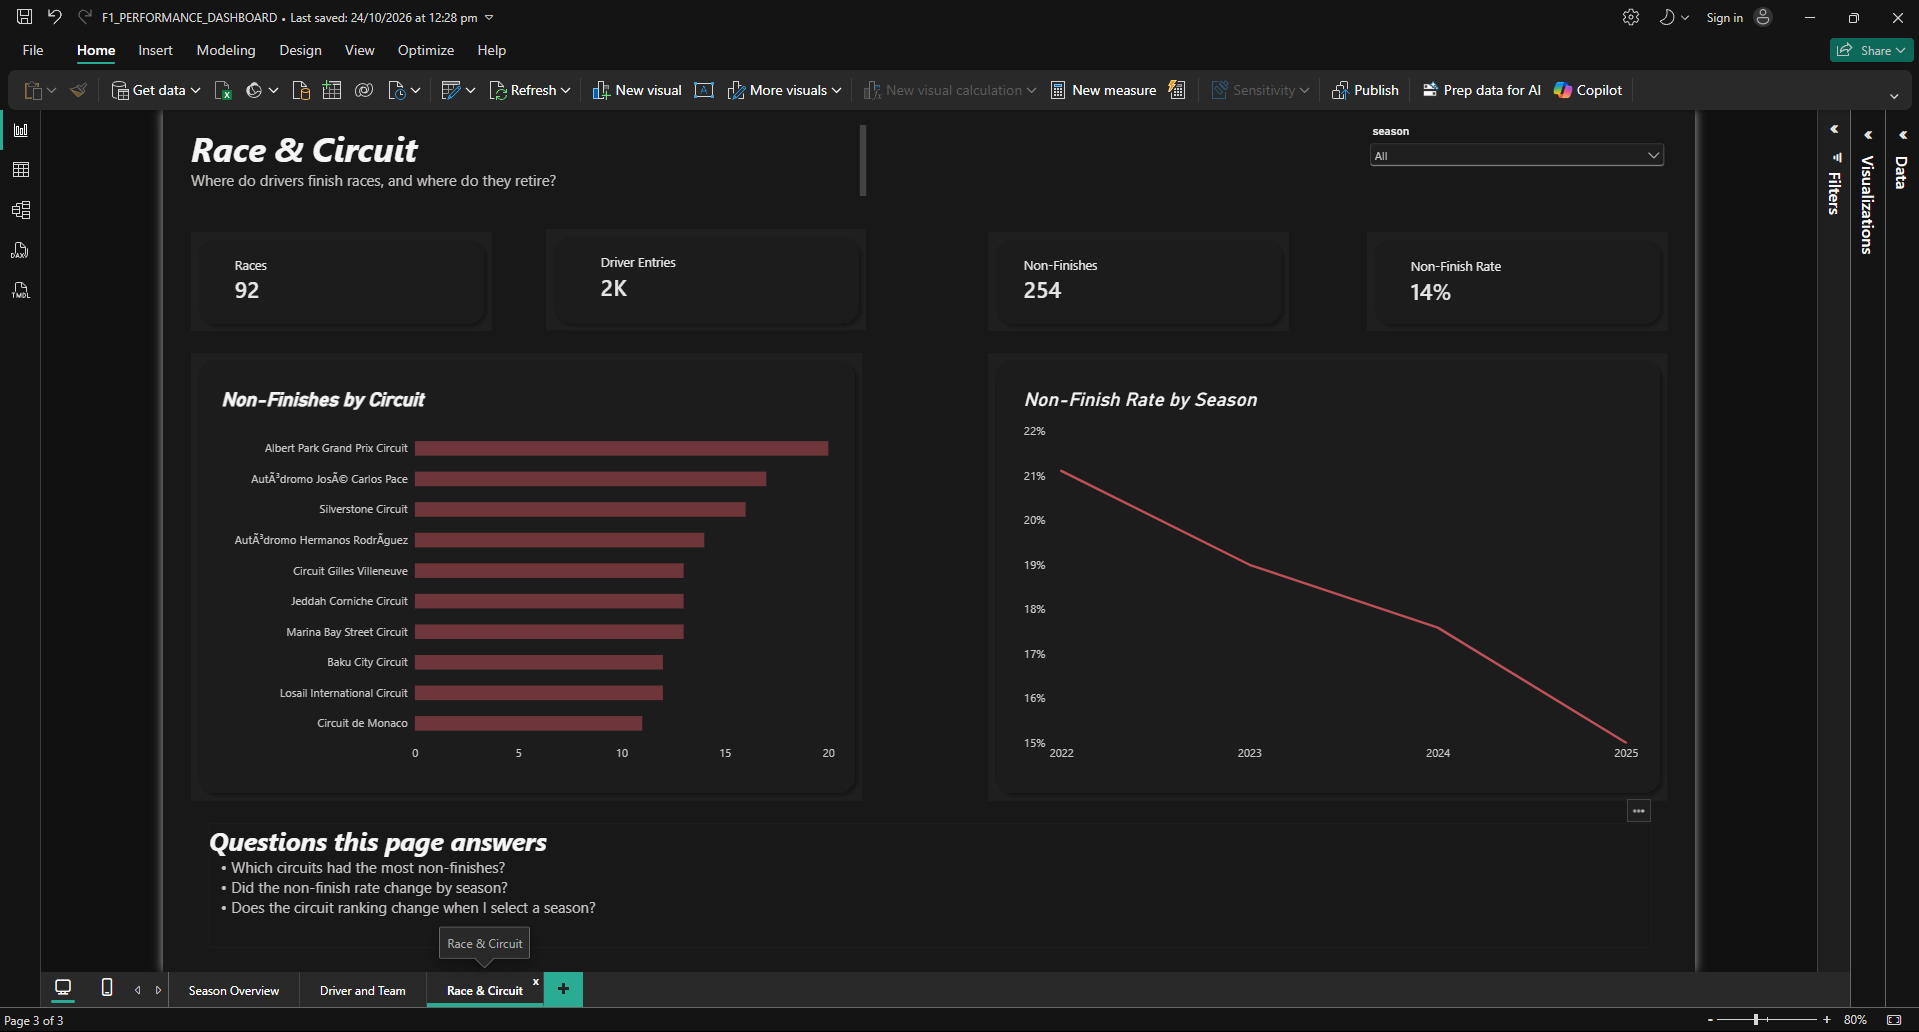

The page's visual inventory and layout, read from the dashboard file:
{"tool":"powerbi","page":{"name":"Race & Circuit","canvas":[1920,1080],"ordinal":2},"visuals":[{"type":"group","id":"g1","title":"Background","box":[35,149.5,1850.3,716.4],"z":0},{"type":"shape","box":[35,152.8,377,124.4],"z":0,"group":"g1"},{"type":"shape","box":[480.4,149.5,401.3,127.4],"z":1000,"group":"g1"},{"type":"cardVisual","fields":{"Data":[" fact_race_results.Races"]},"box":[74.1,169.7,299,90.2],"z":1000},{"type":"shape","box":[1033.6,152.8,377,124.4],"z":2000,"group":"g1"},{"type":"cardVisual","fields":{"Data":[" fact_race_results.Driver Entries"]},"box":[531.9,162.9,299,97],"z":2000},{"type":"shape","box":[1507.9,152.8,377,124.4],"z":3000,"group":"g1"},{"type":"cardVisual","fields":{"Data":[" fact_race_results.Non-Finishes"]},"box":[1062.5,169.7,299,90.2],"z":3000},{"type":"cardVisual","fields":{"Data":[" fact_race_results.Non-Finish Rate"]},"box":[1547.3,171,299,88.9],"z":4000},{"type":"shape","box":[35,305.1,841.4,560.8],"z":4000,"group":"g1"},{"type":"slicer","fields":{"Values":[" clean_races.season"]},"box":[1507.4,19.2,378.7,110.5],"z":4001},{"type":"textbox","box":[35.4,19.2,845.8,110.5],"z":4002},{"type":"barChart","title":"Non-Finishes by Circuit","fields":{"Category":[" clean_circuits.circuit_name"],"Y":[" fact_race_results.Non-Finishes"]},"box":[57.9,334,799.9,502.3],"z":4003},{"type":"lineChart","title":"Non-Finish Rate by Season","fields":{"Category":[" clean_races.season"],"Y":[" fact_race_results.Non-Finish Rate"]},"box":[1062.5,334,802.6,502.3],"z":4004},{"type":"textbox","box":[57.9,892.8,1807.2,157.6],"z":4005},{"type":"shape","box":[1033.6,305.1,851.4,560.8],"z":5000,"group":"g1"}]}

Visuals, with their boxes on the page's 1920x1080 design canvas (x1, y1, x2, y2). These are canvas units, not pixel positions in the 1919x1032 screenshot, which may show the page scaled, cropped or inside an application window:
"Background" group: pyautogui.locateOnScreen(35, 150, 1885, 866)
shape: pyautogui.locateOnScreen(35, 153, 412, 277)
shape: pyautogui.locateOnScreen(480, 150, 882, 277)
cardVisual -  fact_race_results.Races: pyautogui.locateOnScreen(74, 170, 373, 260)
shape: pyautogui.locateOnScreen(1034, 153, 1411, 277)
cardVisual -  fact_race_results.Driver Entries: pyautogui.locateOnScreen(532, 163, 831, 260)
shape: pyautogui.locateOnScreen(1508, 153, 1885, 277)
cardVisual -  fact_race_results.Non-Finishes: pyautogui.locateOnScreen(1062, 170, 1362, 260)
cardVisual -  fact_race_results.Non-Finish Rate: pyautogui.locateOnScreen(1547, 171, 1846, 260)
shape: pyautogui.locateOnScreen(35, 305, 876, 866)
slicer -  clean_races.season: pyautogui.locateOnScreen(1507, 19, 1886, 130)
textbox: pyautogui.locateOnScreen(35, 19, 881, 130)
"Non-Finishes by Circuit" barChart: pyautogui.locateOnScreen(58, 334, 858, 836)
"Non-Finish Rate by Season" lineChart: pyautogui.locateOnScreen(1062, 334, 1865, 836)
textbox: pyautogui.locateOnScreen(58, 893, 1865, 1050)
shape: pyautogui.locateOnScreen(1034, 305, 1885, 866)
